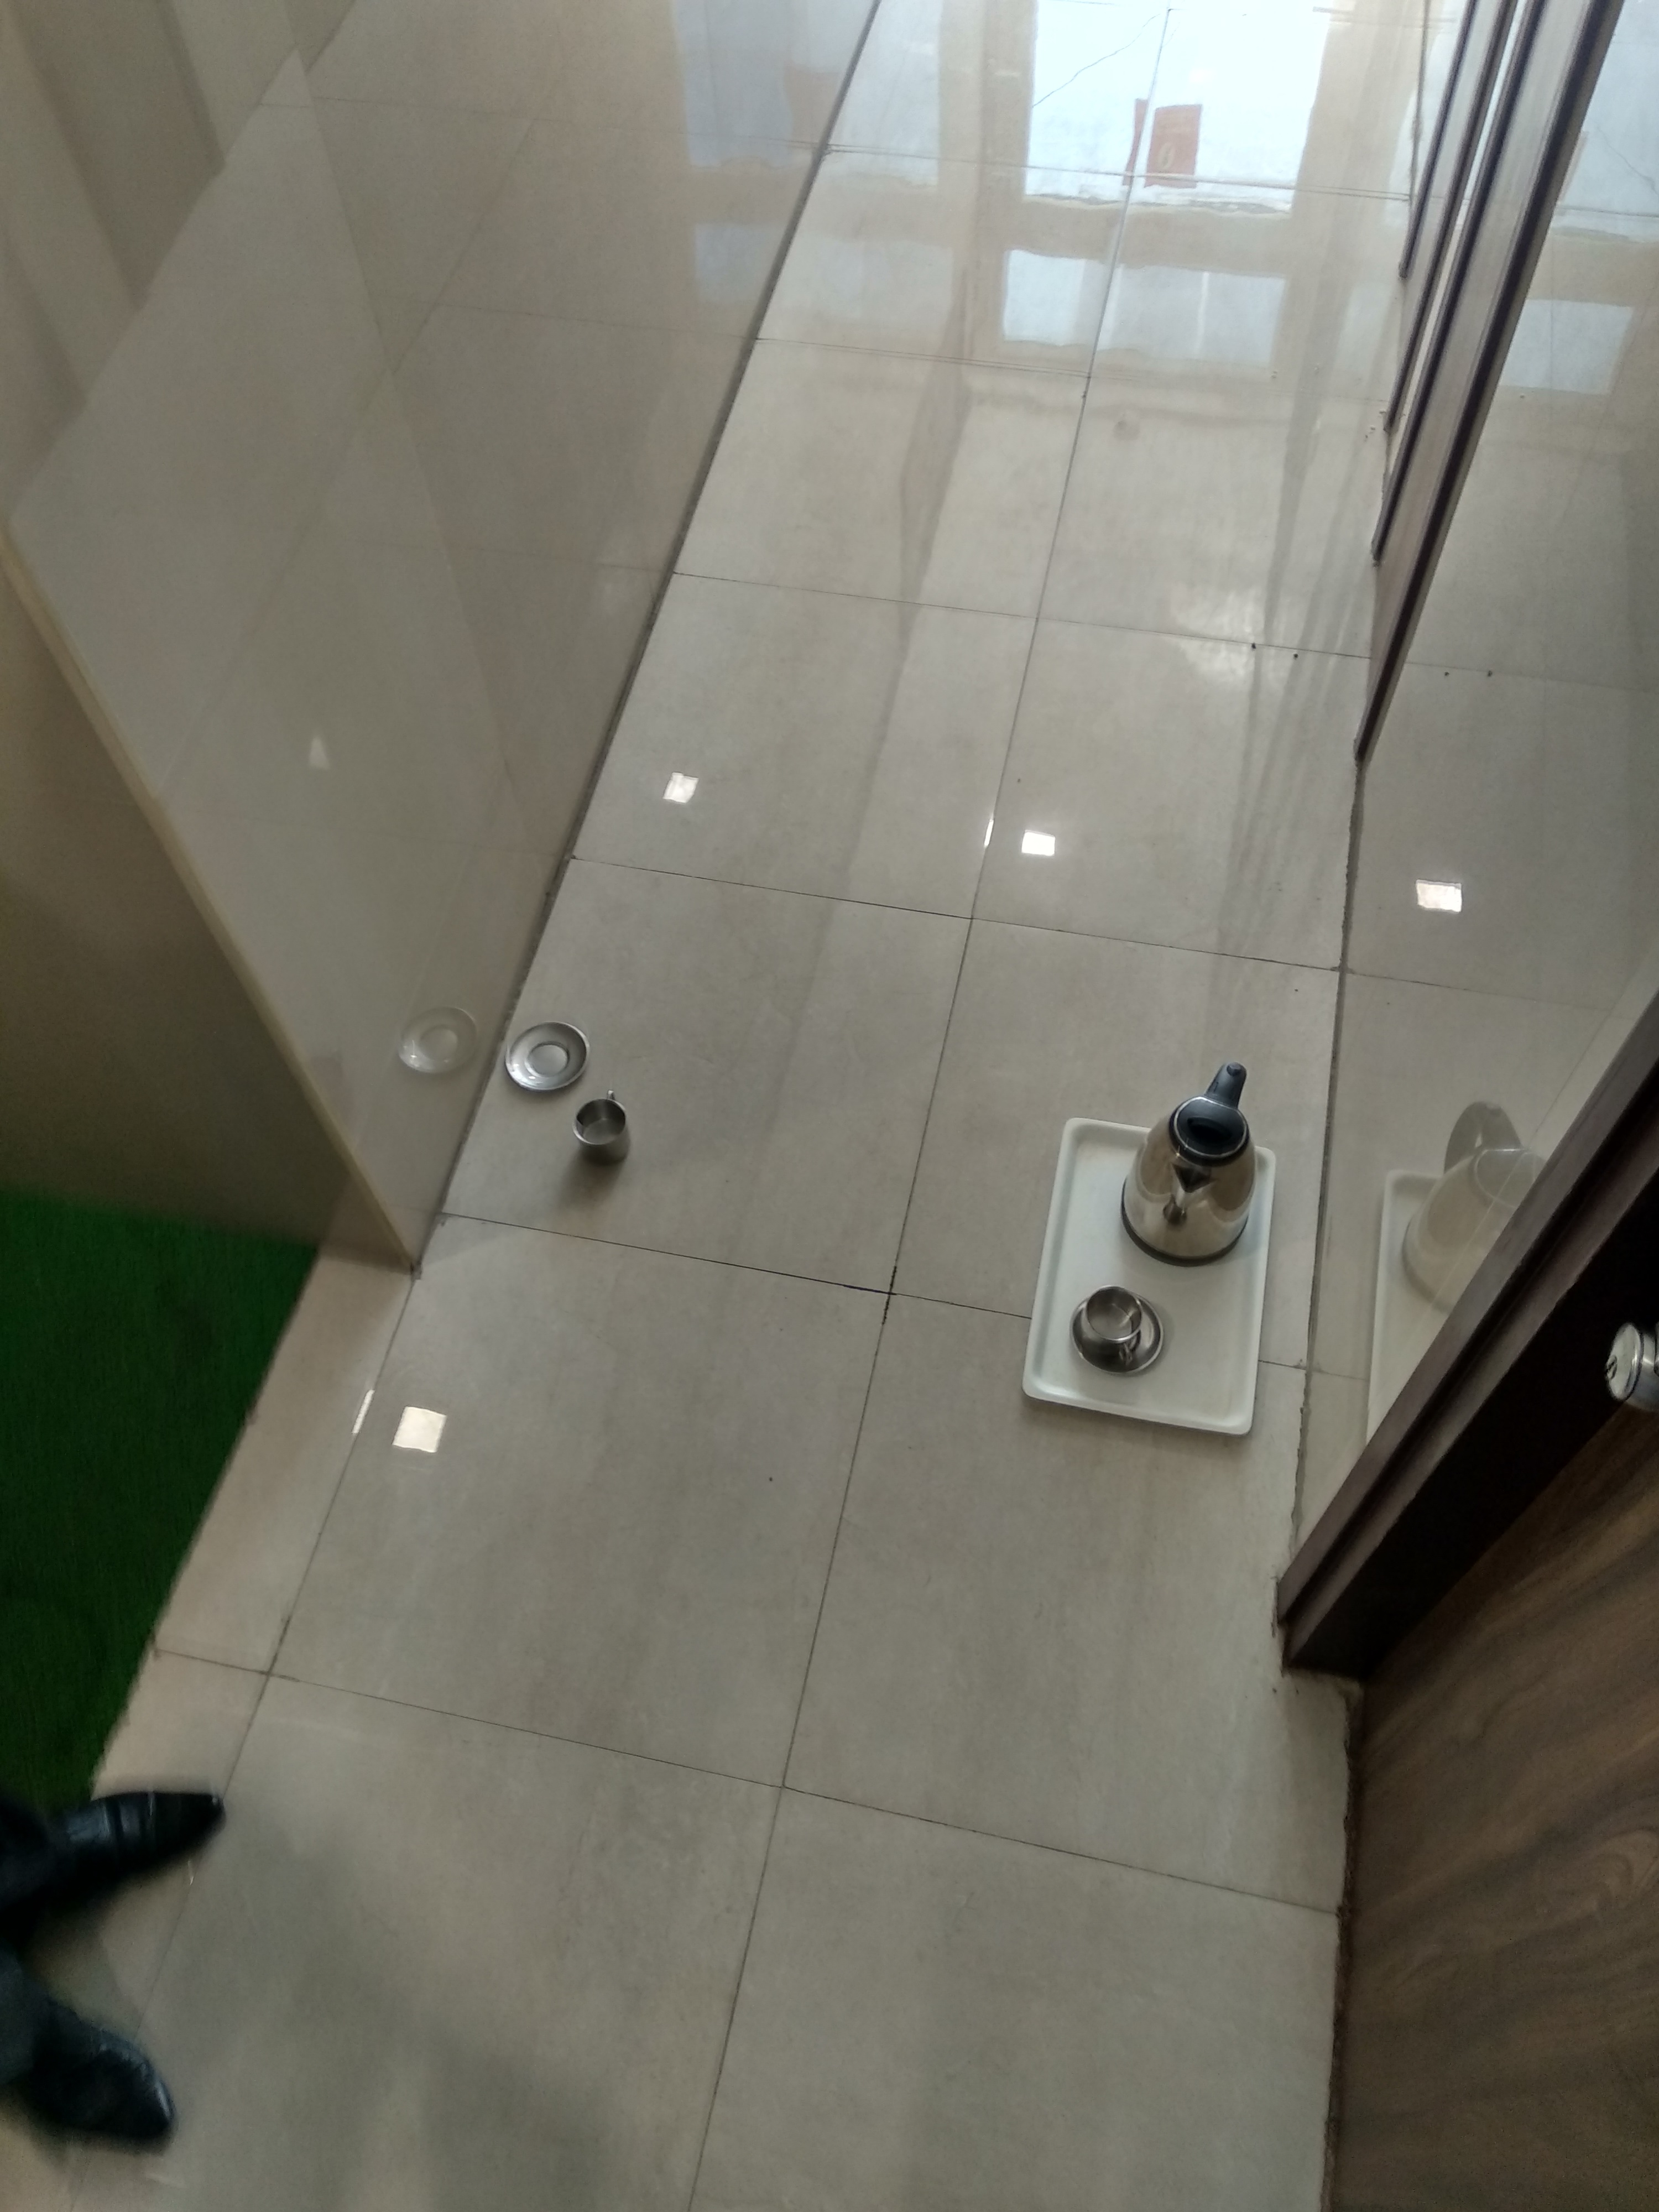CUP: (579, 1101, 643, 1174), (1072, 1298, 1147, 1360)
FLASK: (1152, 1073, 1263, 1263)
